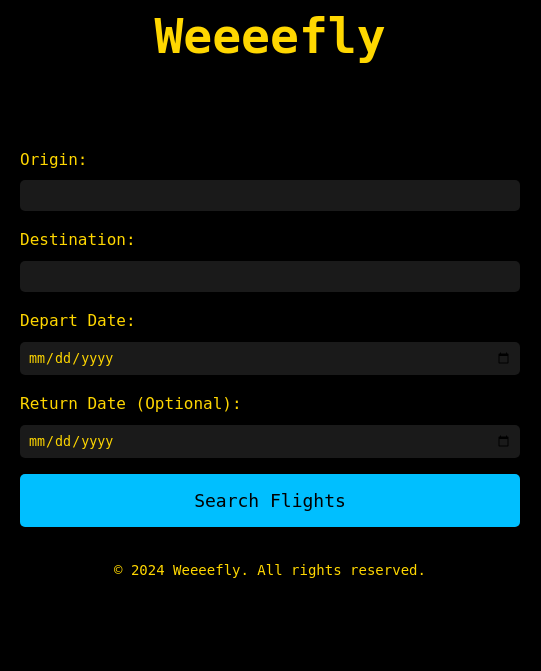
it: HomePage › validates that destination is different from origin
In the field labelled "Origin:": [270, 196] box [20, 180, 520, 211], type "JFK"
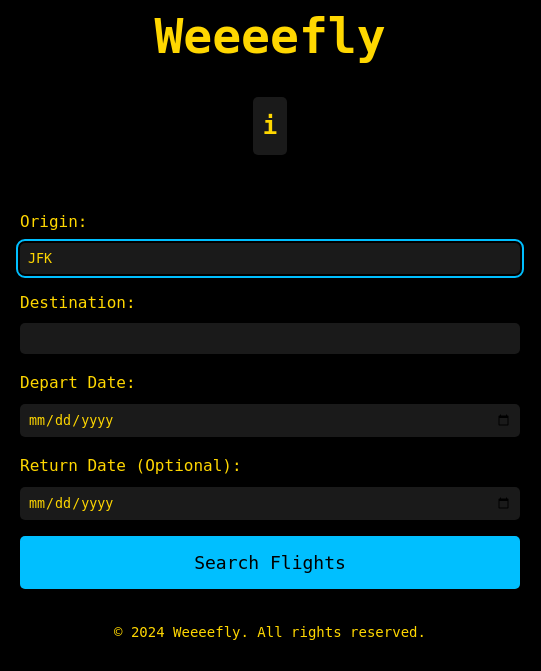
In the field labelled "Destination:": [270, 339] box [20, 323, 520, 354], type "JFK"
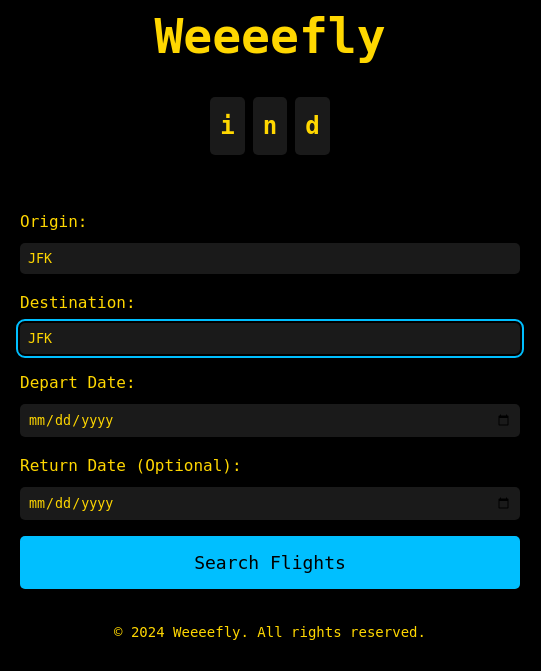
Click the button "Search Flights": [270, 563] box [20, 536, 520, 589]
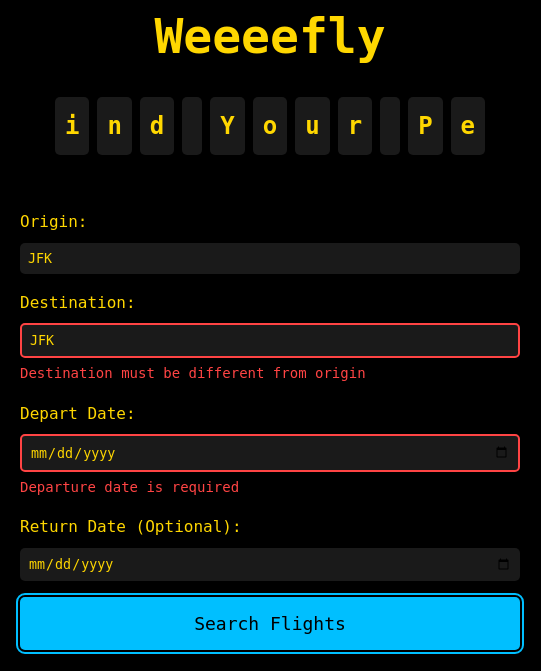
Now the text "Destination must be different from origin" is shown, box [20, 365, 366, 381]
